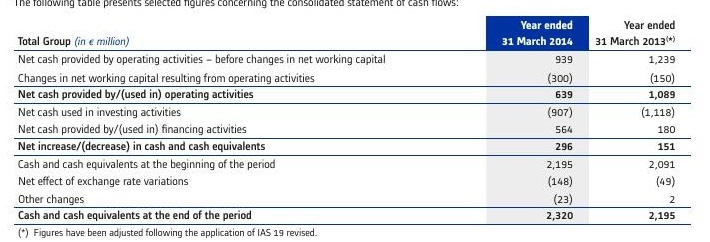table: (0, 0, 710, 242)
